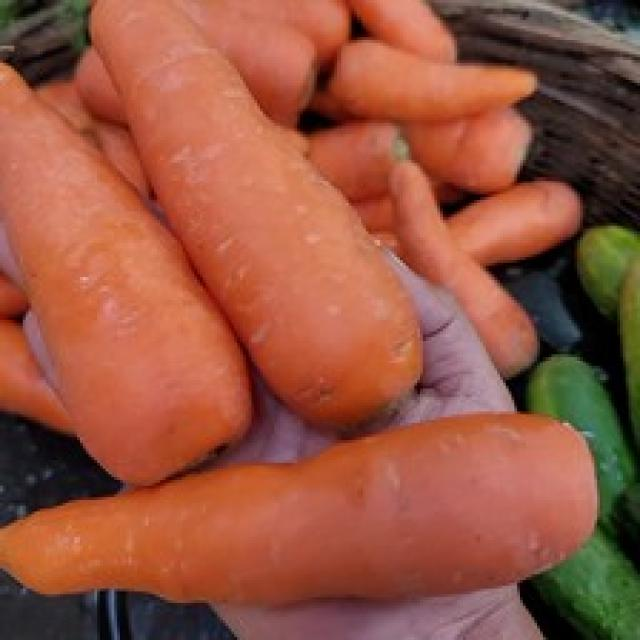Fresh_Carrot: (0, 417, 592, 617), (0, 46, 251, 479), (393, 155, 538, 382), (344, 44, 539, 114)
